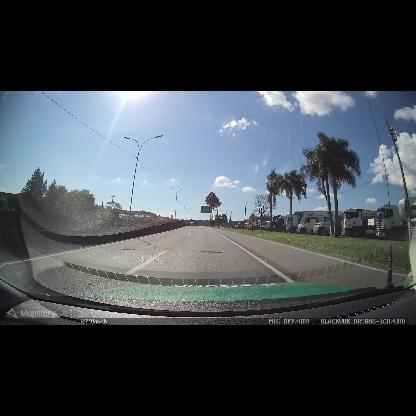A-32a: (248, 213, 258, 224)
